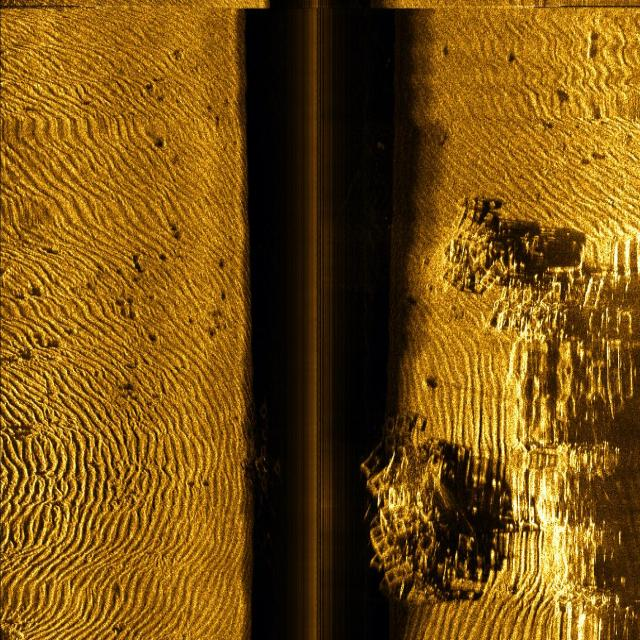artificial reef: (362, 398, 482, 616), (444, 190, 567, 357), (249, 396, 289, 503)
